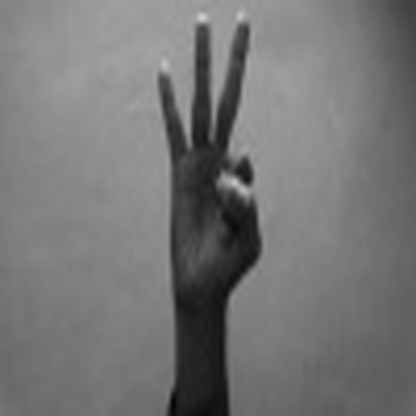f: (135, 9, 277, 289)
